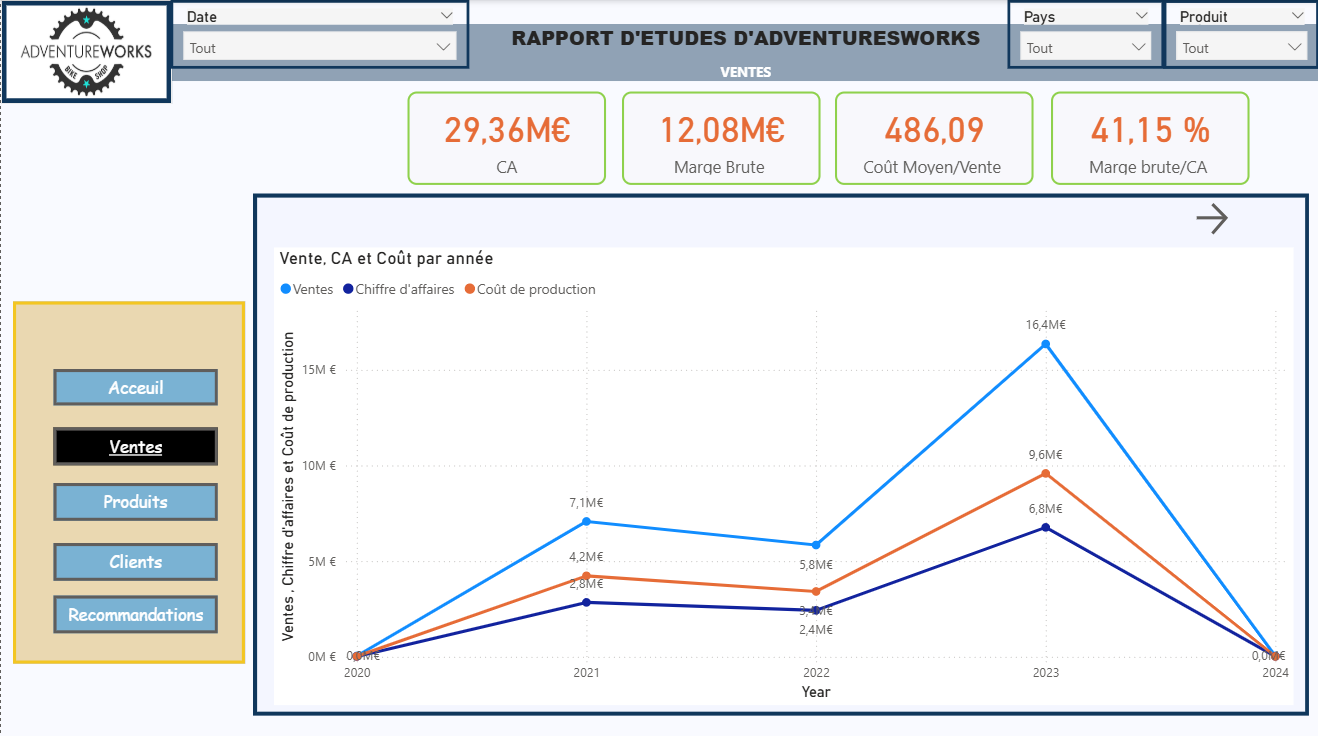

The dashboard page shown, as its layout file describes it:
{"tool":"powerbi","page":{"name":"Vente Aperçu ","canvas":[1280,720],"ordinal":1},"visuals":[{"type":"image","box":[0,0,165.9,100.4],"z":0},{"type":"shape","box":[244.5,187.8,1025,506.8],"z":1000},{"type":"textbox","title":"RAPPORT D''ETUDES D''ADVENTURESWORKS ","box":[165.9,23.3,1113.5,55.3],"z":2000},{"type":"shape","box":[11.3,293.1,225.1,351.4],"z":2000,"group":"g1"},{"type":"group","id":"g1","title":"Groupe 1","box":[11.3,293.1,225.1,351.4],"z":3000},{"type":"card","fields":{"Values":["FactInternetSales._Sales Amount"]},"box":[395.1,89.1,192.7,90.7],"z":4000},{"type":"actionButton","box":[50,415.6,159.5,36.7],"z":4000,"group":"g1"},{"type":"card","fields":{"Values":["FactInternetSales._Total Profit"]},"box":[602.4,89.1,192.7,90.7],"z":5000},{"type":"actionButton","box":[50,358.4,159.5,35.4],"z":5000,"group":"g1"},{"type":"card","fields":{"Values":["FactInternetSales._ProfitMargin%"]},"box":[1018.5,89.1,192.7,90.7],"z":6000},{"type":"actionButton","box":[50,468.7,159.5,36.7],"z":6000,"group":"g1"},{"type":"card","fields":{"Values":["FactInternetSales._Mnt/trsx"]},"box":[809.6,89.1,192.7,90.7],"z":7000},{"type":"actionButton","box":[50,527.2,159.5,36.7],"z":7000,"group":"g1"},{"type":"slicer","fields":{"Values":["DimGeography.City"]},"box":[1128.6,0,152.2,66.4],"z":8000},{"type":"actionButton","box":[50,578.9,159.5,36.7],"z":8000,"group":"g1"},{"type":"slicer","fields":{"Values":["DimGeography.FrenchCountryRegionName"]},"box":[976.4,0,152.2,66.4],"z":9000},{"type":"slicer","fields":{"Values":["DimProduct.FrenchProductName"]},"box":[1127.8,0,152.2,66.4],"z":10000},{"type":"slicer","fields":{"Values":["DimDate.FullDateAlternateKey.Variation.Hiérarchie de dates.Année"]},"box":[165.2,0,289.8,66.4],"z":11000},{"type":"lineChart","title":"Vente, CA et Coût par année ","fields":{"Category":["FactInternetSales.Year"],"Y":["FactInternetSales._Sales Amount","FactInternetSales._Total Profit","FactInternetSales._COGS"]},"box":[265.6,239.6,989.3,443.7],"z":12000},{"type":"actionButton","box":[1154.5,192.7,100.4,40.5],"z":13000}]}

Visuals, with their boxes in screenshot pixels (x1, y1, x2, y2), scaled from the page's 1280x720 canvas onto the 1318x736 screenshot:
image: <bbox>0, 0, 171, 103</bbox>
shape: <bbox>252, 192, 1307, 710</bbox>
"RAPPORT D''ETUDES D''ADVENTURESWORKS " textbox: <bbox>171, 24, 1317, 80</bbox>
shape: <bbox>12, 300, 243, 659</bbox>
"Groupe 1" group: <bbox>12, 300, 243, 659</bbox>
card - FactInternetSales._Sales Amount: <bbox>407, 91, 605, 184</bbox>
actionButton: <bbox>51, 425, 216, 462</bbox>
card - FactInternetSales._Total Profit: <bbox>620, 91, 819, 184</bbox>
actionButton: <bbox>51, 366, 216, 403</bbox>
card - FactInternetSales._ProfitMargin%: <bbox>1049, 91, 1247, 184</bbox>
actionButton: <bbox>51, 479, 216, 517</bbox>
card - FactInternetSales._Mnt/trsx: <bbox>834, 91, 1032, 184</bbox>
actionButton: <bbox>51, 539, 216, 576</bbox>
slicer - DimGeography.City: <bbox>1162, 0, 1317, 68</bbox>
actionButton: <bbox>51, 592, 216, 629</bbox>
slicer - DimGeography.FrenchCountryRegionName: <bbox>1005, 0, 1162, 68</bbox>
slicer - DimProduct.FrenchProductName: <bbox>1161, 0, 1317, 68</bbox>
slicer - DimDate.FullDateAlternateKey.Variation.Hiérarchie de dates.Année: <bbox>170, 0, 469, 68</bbox>
"Vente, CA et Coût par année " lineChart: <bbox>273, 245, 1292, 698</bbox>
actionButton: <bbox>1189, 197, 1292, 238</bbox>
